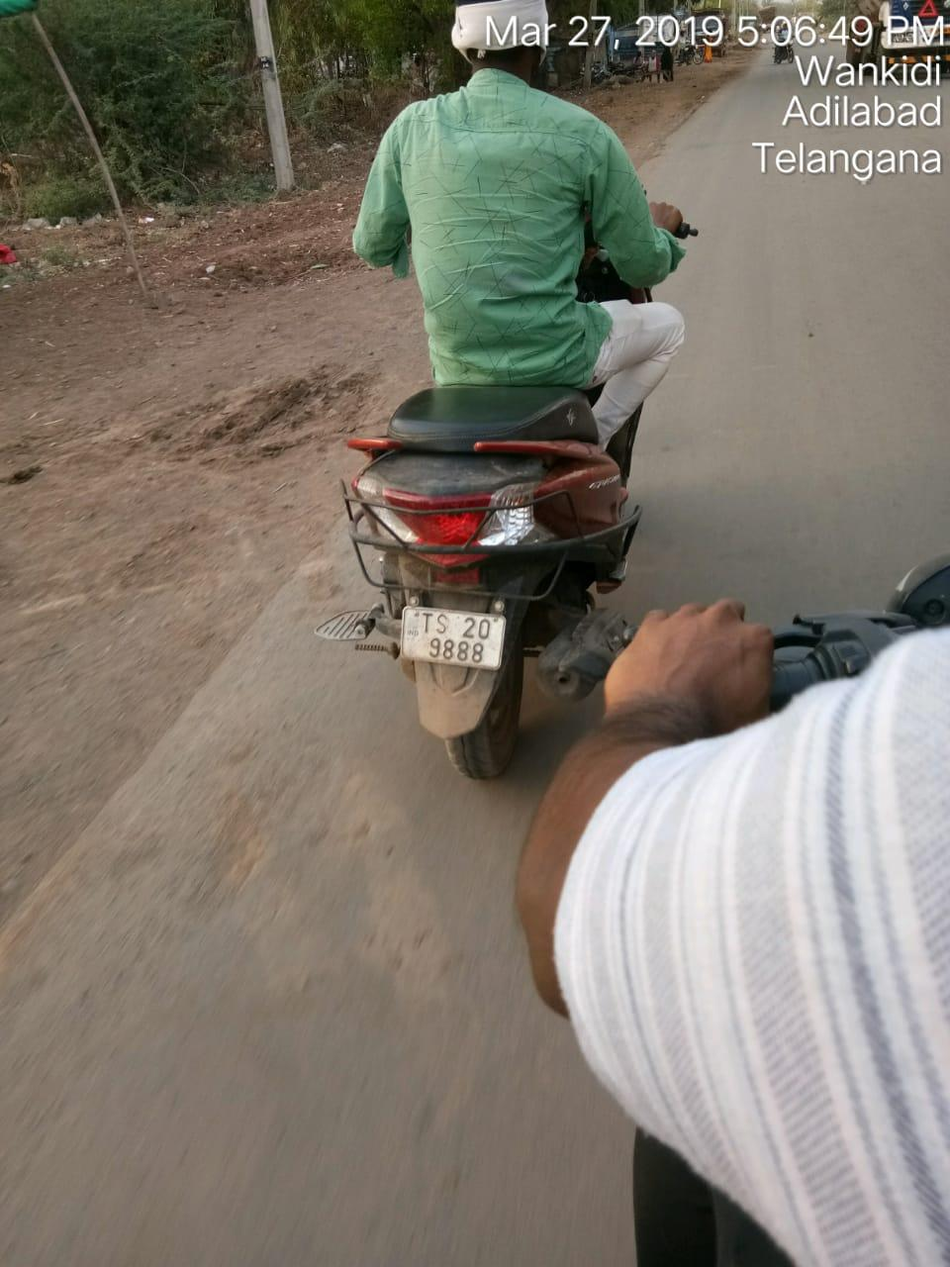plate: (375, 593, 523, 699)
